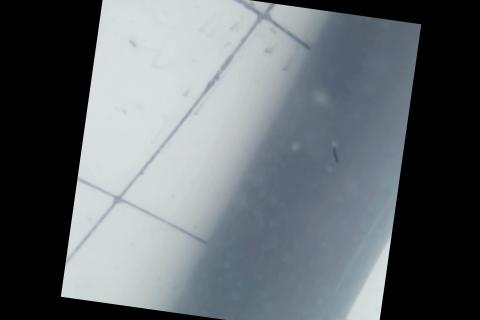keretakan: (324, 142, 343, 166)
